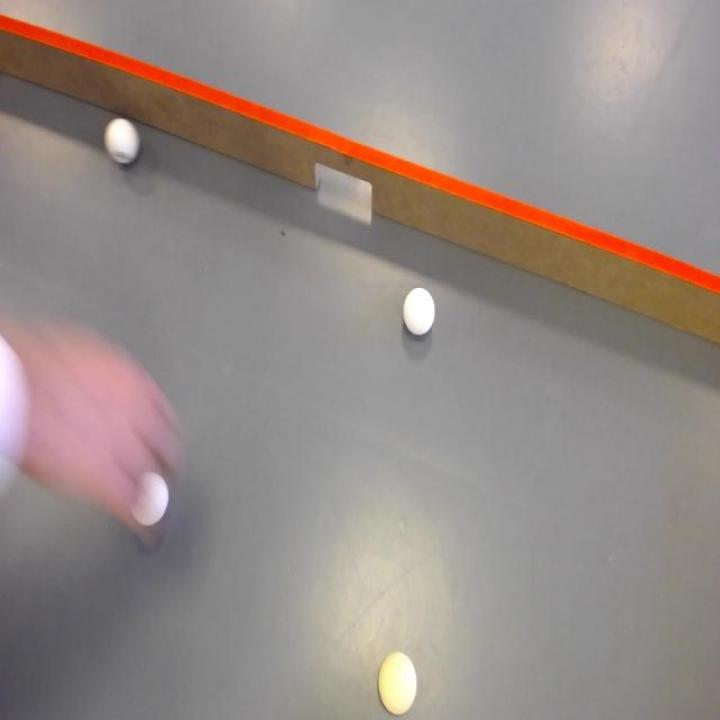white: (374, 652, 419, 715), (100, 108, 141, 172), (401, 284, 437, 342)
